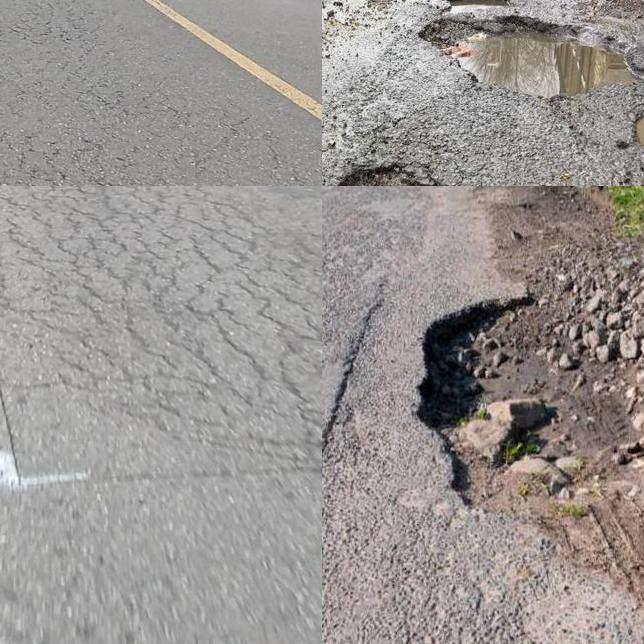Lubang: (428, 14, 642, 101)
Pinggir: (393, 279, 644, 554)
Retak Buaya: (0, 186, 322, 491)
